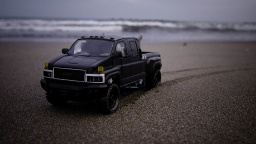car: (38, 29, 164, 116)
